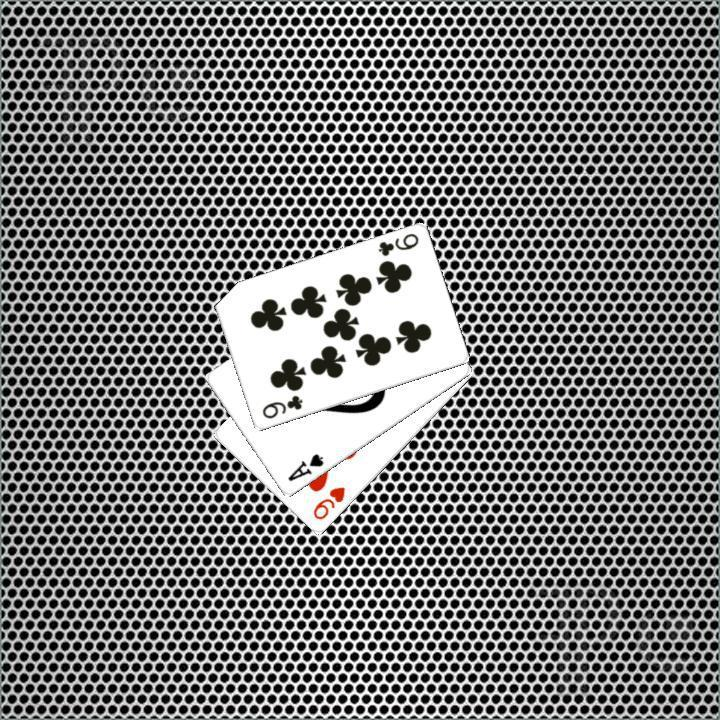9: (309, 483, 347, 522), (257, 391, 305, 421), (373, 229, 420, 259)
A: (283, 450, 326, 484)
